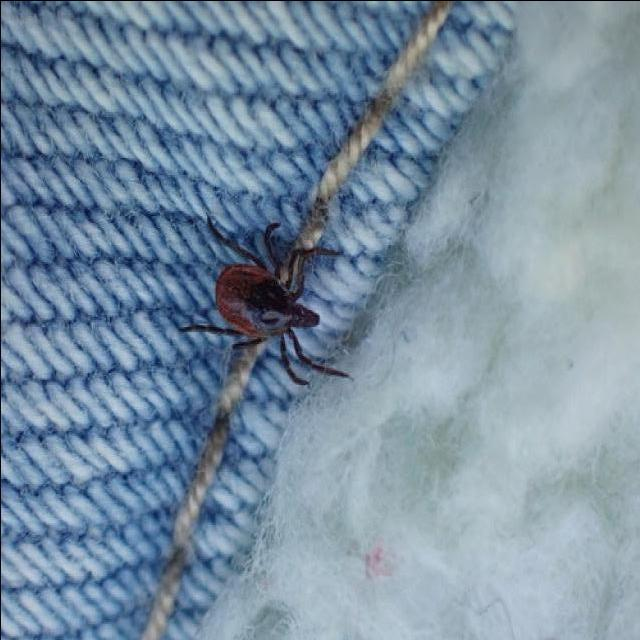Ixodes Ricinus-F: (179, 213, 351, 387)
